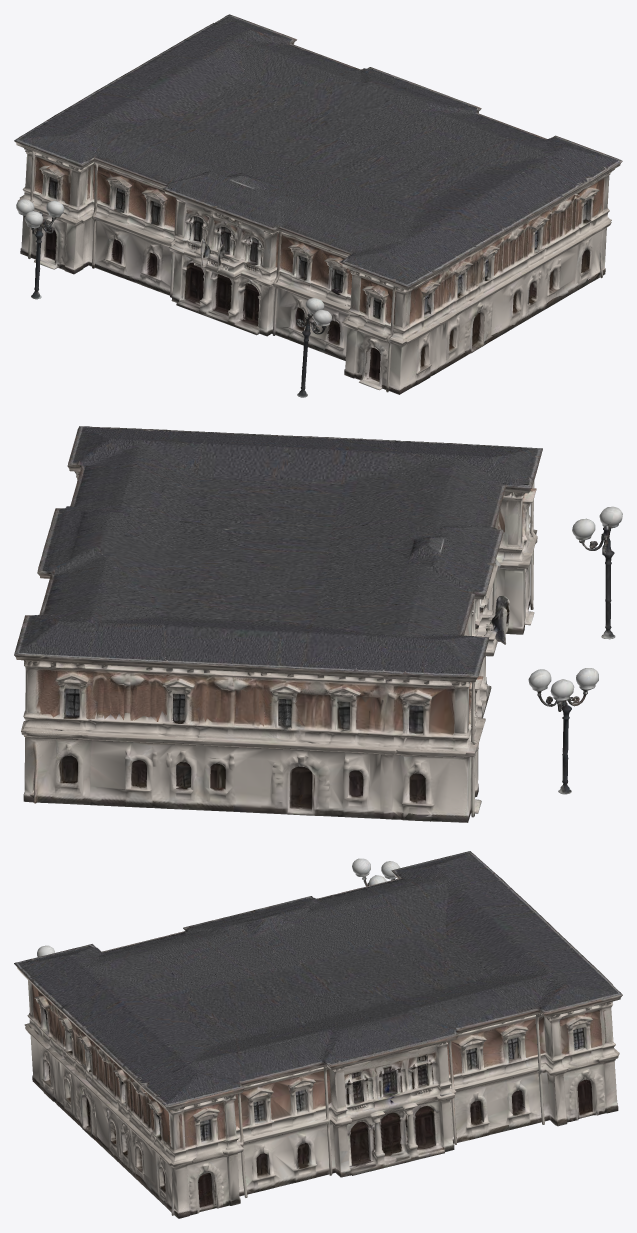
File: municipio.glb
3 renders of one model, top to bottom at view 1: azimuth 30°, elevation 25°; view 2: azimuth 150°, elevation 25°; view 3: azimuth 270°, elevation 25°, orthographic. The views are drawn at different scales.
Visible parts, largest first — view 1: Municipio; view 2: Municipio; view 3: Municipio.
Boxes of the visible parts, x1,y1,x2,y2 form: Municipio: [14, 14, 622, 397]; Municipio: [14, 426, 622, 822]; Municipio: [14, 851, 622, 1218].
Bounding box in the file's own units: 107 × 30.32 × 110.
1 material, 1 textured.
